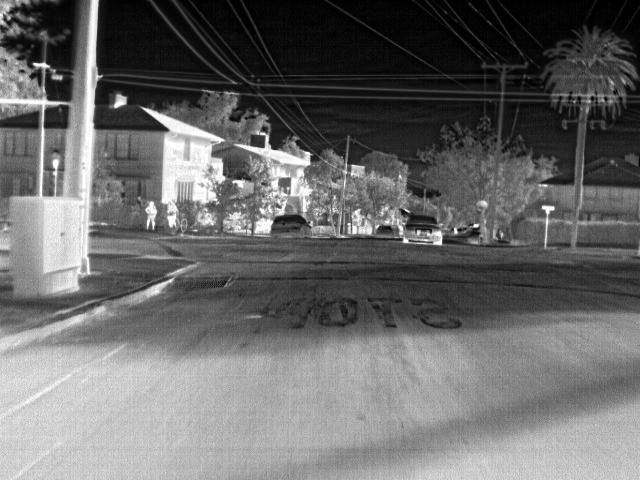car: (405, 214, 443, 244), (272, 215, 310, 240), (380, 224, 398, 235), (468, 229, 480, 241)
person: (166, 198, 181, 230), (146, 200, 159, 228)
